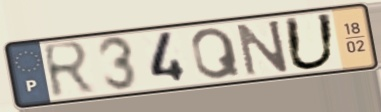3: (96, 33, 140, 95)
4: (146, 29, 192, 87)
N: (234, 17, 292, 79)
Q: (189, 25, 244, 82)
R: (39, 38, 99, 102)
U: (281, 11, 339, 73)
